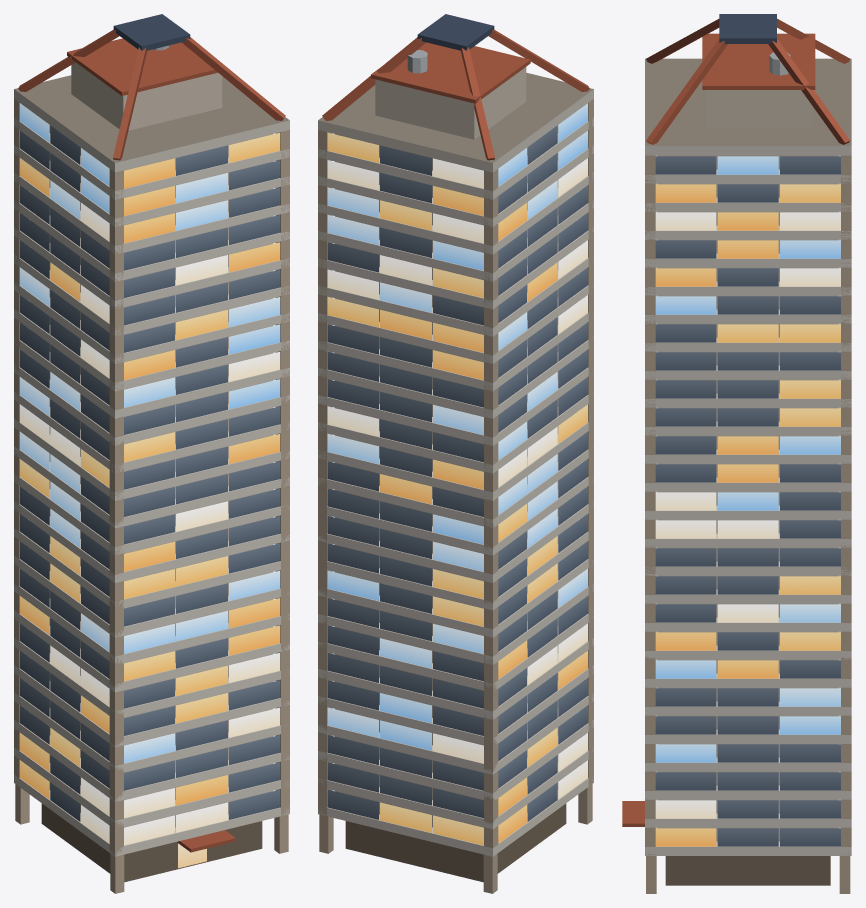
Rendered from bld_apt_C_intact.meshopt.glb.
The picture shows the model from 3 angles, left to right: view 1: azimuth 30°, elevation 25°; view 2: azimuth 150°, elevation 25°; view 3: azimuth 270°, elevation 25°; orthographic projection. The views are drawn at different scales.
Parts seen in each view (by area): view 1: bld_apt_C_intact; view 2: bld_apt_C_intact; view 3: bld_apt_C_intact.
Boxes of the visible parts, x1,y1,x2,y2 form: bld_apt_C_intact: (14, 14, 289, 893); bld_apt_C_intact: (318, 14, 593, 893); bld_apt_C_intact: (622, 14, 851, 893).
Bounding box in the file's own units: 19.4 × 85.4 × 21.5.
